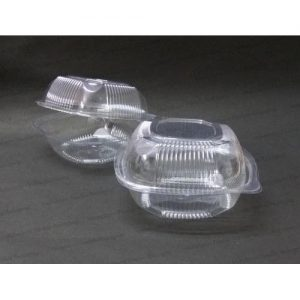PlasticBox: (112, 114, 264, 224)
